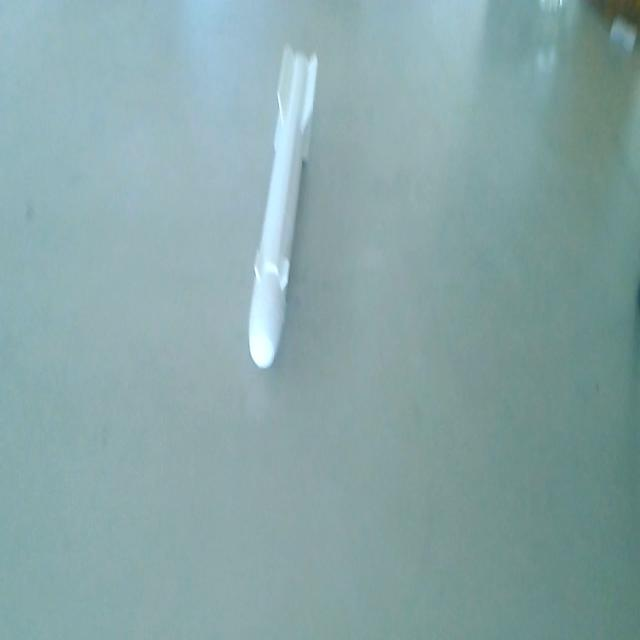Rocket: (248, 26, 319, 371)
